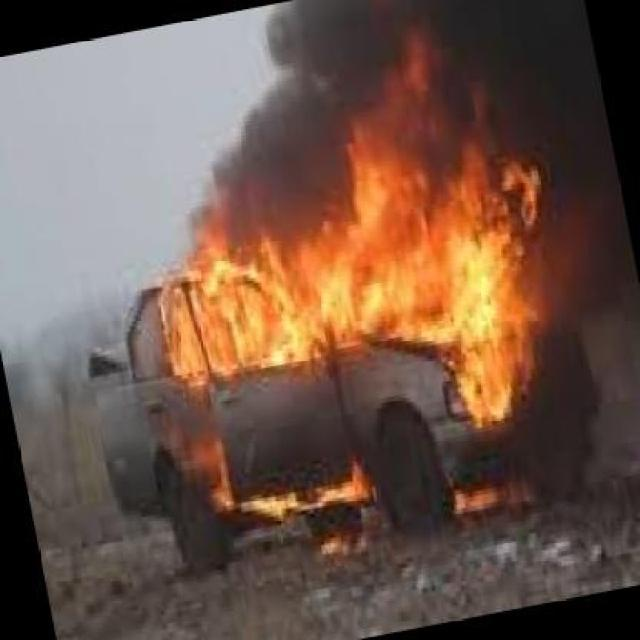Fire: (172, 51, 567, 544)
Smoke: (254, 9, 636, 106), (561, 107, 640, 416), (198, 104, 352, 232)
